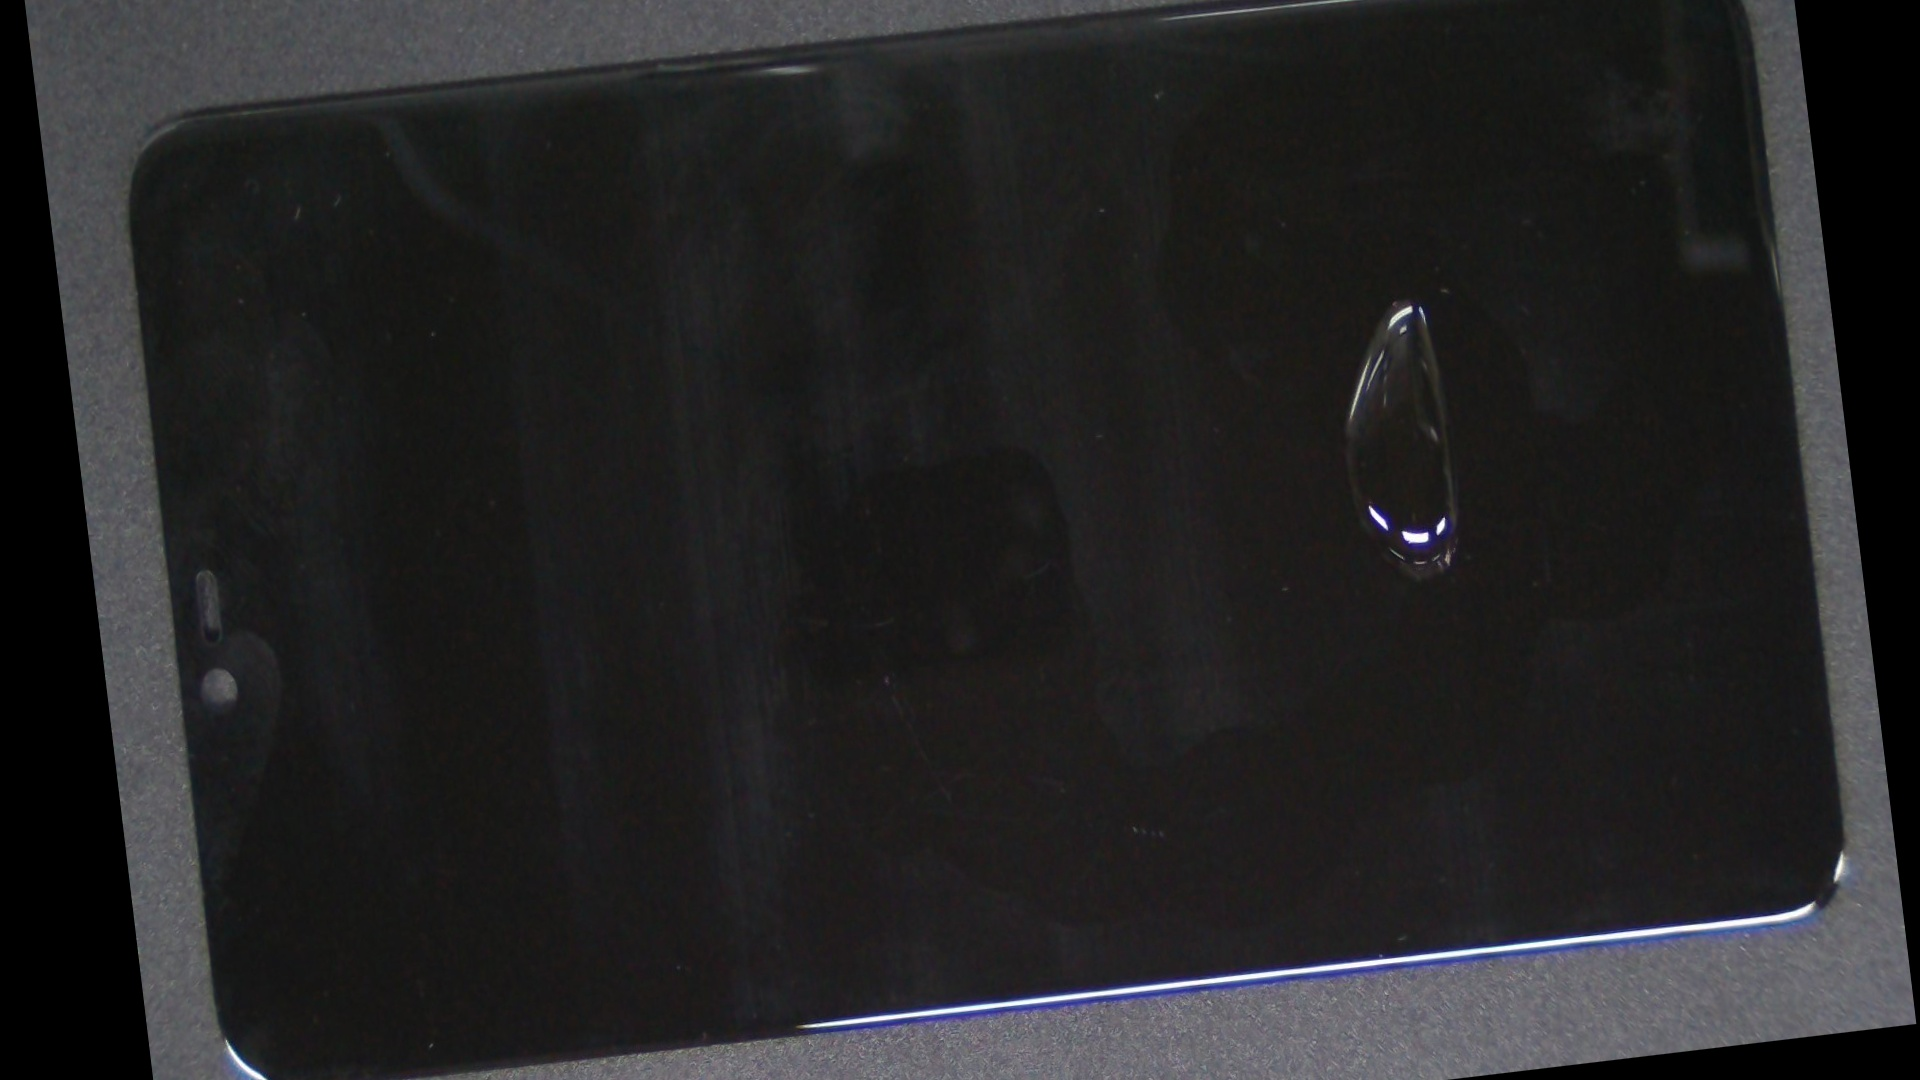oil: (716, 16, 1851, 611)
